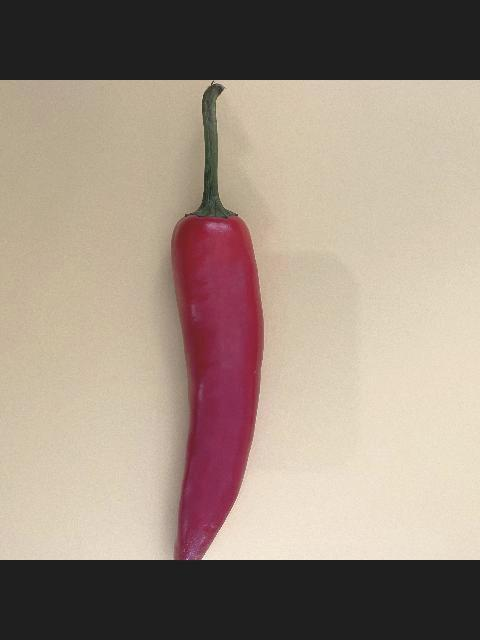chilli: (166, 82, 266, 560)
